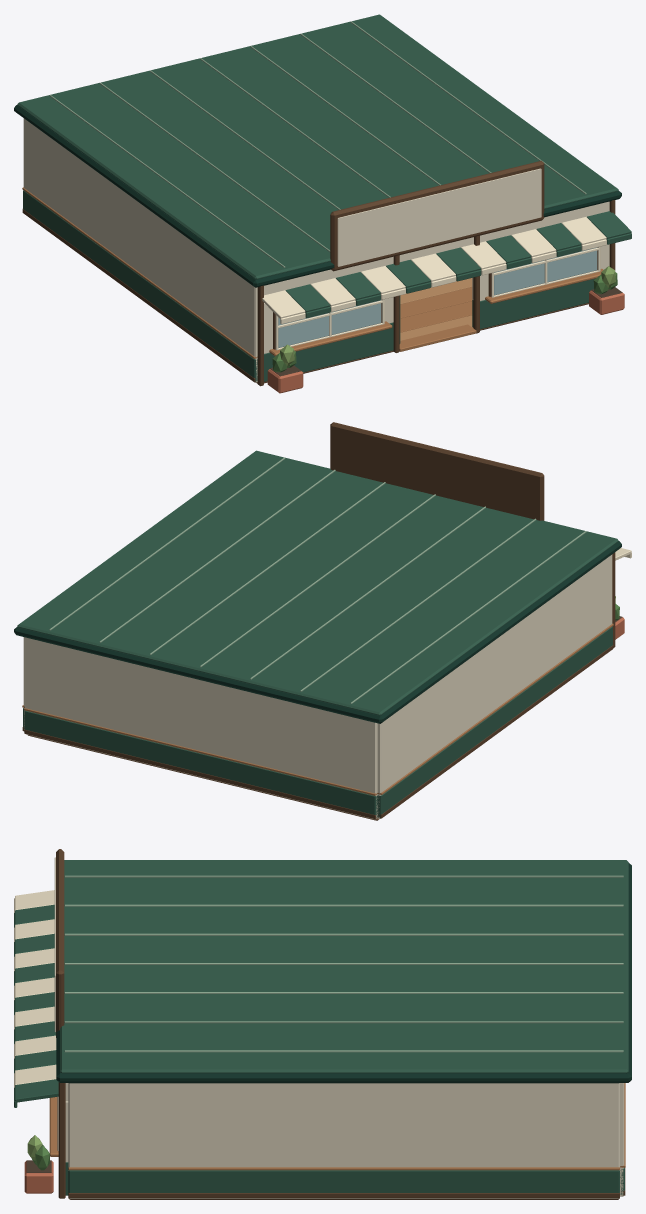
The model's file is cafe-shell-v2.glb.
3 views of the same model, one above another, from view 1: azimuth 30°, elevation 25°; view 2: azimuth 150°, elevation 25°; view 3: azimuth 270°, elevation 25° (orthographic). The views are drawn at different scales.
Parts seen in each view (by area): view 1: Cafe_Roof_Cutaway_UF_Jade_Paint, Cafe_Wall_Left_UF_Wall_Cream, Sign_Paint_Surface, Cafe_Roof_Cutaway_UF_Lettering, Cafe_Wall_Front_UF_Jade_Paint, Cafe_Wall_Left_UF_Jade_Paint, Cafe_Wall_Front_UF_Window_Blue, Cafe_Wall_Front_UF_Wall_Cream, Cafe_Roof_Cutaway_UF_Sage_Paint, Cafe_Roof_Cutaway_UF_Deep_Green, Cafe_Sign_UF_Walnut, Cafe_Floor_UF_Honey_Oak (+9 smaller); view 2: Cafe_Roof_Cutaway_UF_Jade_Paint, Cafe_Wall_Back_UF_Wall_Cream, Cafe_Wall_Left_UF_Wall_Cream, Cafe_Sign_UF_Walnut, Cafe_Wall_Back_UF_Jade_Paint, Cafe_Roof_Cutaway_UF_Deep_Green, Cafe_Wall_Left_UF_Jade_Paint, Cafe_Roof_Cutaway_UF_Sage_Paint, Cafe_Wall_Back_UF_Walnut, Cafe_Wall_Left_UF_Walnut, Cafe_Wall_Back_UF_Honey_Oak, Cafe_Wall_Left_UF_Honey_Oak; view 3: Cafe_Roof_Cutaway_UF_Jade_Paint, Cafe_Wall_Right_UF_Wall_Cream, Cafe_Wall_Right_UF_Jade_Paint, Cafe_Roof_Cutaway_UF_Sage_Paint, Cafe_Roof_Cutaway_UF_Deep_Green, Cafe_Roof_Cutaway_UF_Lettering, Cafe_Wall_Right_UF_Walnut, Cafe_Wall_Right_UF_Honey_Oak, Cafe_Sign_UF_Walnut, Cafe_Floor_UF_Walnut, Cafe_Door_Frame_UF_Walnut, Cafe_Door_Frame_UF_Terracotta (+3 smaller).
Boxes of the visible parts, box(x1,y1,x2,y2) form: Cafe_Roof_Cutaway_UF_Jade_Paint: box(17, 14, 631, 318); Cafe_Wall_Left_UF_Wall_Cream: box(23, 118, 257, 382); Sign_Paint_Surface: box(338, 169, 541, 266); Cafe_Roof_Cutaway_UF_Lettering: box(262, 217, 606, 324); Cafe_Wall_Front_UF_Jade_Paint: box(264, 278, 595, 381); Cafe_Wall_Left_UF_Jade_Paint: box(23, 190, 257, 381); Cafe_Wall_Front_UF_Window_Blue: box(278, 247, 597, 347); Cafe_Wall_Front_UF_Wall_Cream: box(264, 201, 609, 353); Cafe_Roof_Cutaway_UF_Sage_Paint: box(49, 21, 586, 267); Cafe_Roof_Cutaway_UF_Deep_Green: box(14, 105, 621, 287); Cafe_Sign_UF_Walnut: box(330, 160, 544, 271); Cafe_Floor_UF_Honey_Oak: box(400, 287, 472, 332); Cafe_Roof_Cutaway_UF_Jade_Paint: box(17, 450, 618, 715); Cafe_Wall_Back_UF_Wall_Cream: box(25, 637, 377, 819); Cafe_Wall_Left_UF_Wall_Cream: box(377, 554, 612, 818); Cafe_Sign_UF_Walnut: box(330, 422, 544, 520); Cafe_Wall_Back_UF_Jade_Paint: box(24, 710, 377, 816); Cafe_Roof_Cutaway_UF_Deep_Green: box(14, 541, 621, 723); Cafe_Wall_Left_UF_Jade_Paint: box(377, 626, 612, 817); Cafe_Roof_Cutaway_UF_Sage_Paint: box(49, 457, 586, 703); Cafe_Wall_Back_UF_Walnut: box(24, 729, 377, 819); Cafe_Wall_Left_UF_Walnut: box(377, 645, 613, 818); Cafe_Wall_Back_UF_Honey_Oak: box(24, 708, 377, 795); Cafe_Wall_Left_UF_Honey_Oak: box(377, 623, 613, 794); Cafe_Roof_Cutaway_UF_Jade_Paint: box(14, 860, 628, 1107); Cafe_Wall_Right_UF_Wall_Cream: box(68, 1083, 619, 1198); Cafe_Wall_Right_UF_Jade_Paint: box(68, 1170, 619, 1192); Cafe_Roof_Cutaway_UF_Sage_Paint: box(64, 875, 623, 1052); Cafe_Roof_Cutaway_UF_Deep_Green: box(56, 863, 631, 1082); Cafe_Roof_Cutaway_UF_Lettering: box(14, 890, 56, 1087); Cafe_Wall_Right_UF_Walnut: box(68, 1193, 619, 1197); Cafe_Wall_Right_UF_Honey_Oak: box(68, 1167, 619, 1170); Cafe_Sign_UF_Walnut: box(56, 849, 64, 1037); Cafe_Floor_UF_Walnut: box(68, 1198, 619, 1199); Cafe_Door_Frame_UF_Walnut: box(58, 1082, 65, 1198); Cafe_Door_Frame_UF_Terracotta: box(24, 1161, 53, 1193).
Size of the model in its own units: 14.7 by 6.05 by 17.93.
